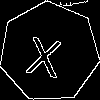X: (24, 27, 65, 79)
